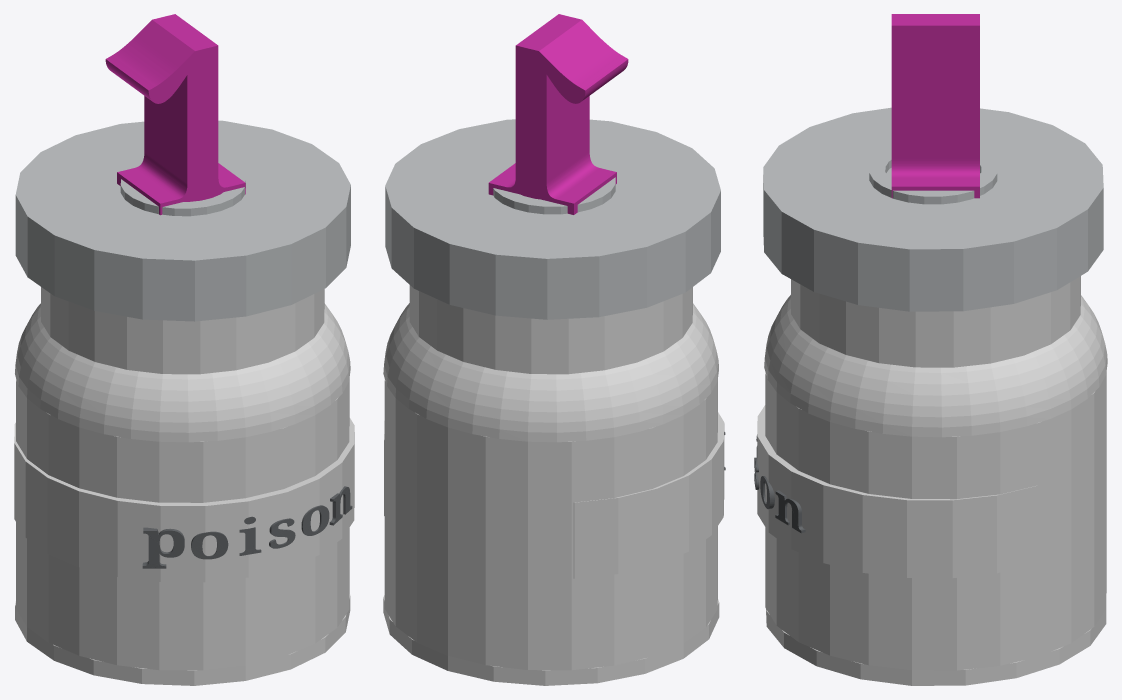
Rendered from poison.glb.
3 renders of one model, left to right at view 1: azimuth 30°, elevation 25°; view 2: azimuth 150°, elevation 25°; view 3: azimuth 270°, elevation 25°, orthographic. The views are drawn at different scales.
Visible parts, largest first — view 1: Mesh_Mesh_head_geo.001_lambert2SG.001; view 2: Mesh_Mesh_head_geo.001_lambert2SG.001; view 3: Mesh_Mesh_head_geo.001_lambert2SG.001.
Part boxes in pixels (box(x1,y1,x2,y2)): Mesh_Mesh_head_geo.001_lambert2SG.001: box(14, 14, 354, 685); Mesh_Mesh_head_geo.001_lambert2SG.001: box(383, 14, 725, 685); Mesh_Mesh_head_geo.001_lambert2SG.001: box(754, 14, 1107, 685).
Bounding box in the file's own units: 20.25 × 38.22 × 20.56.
